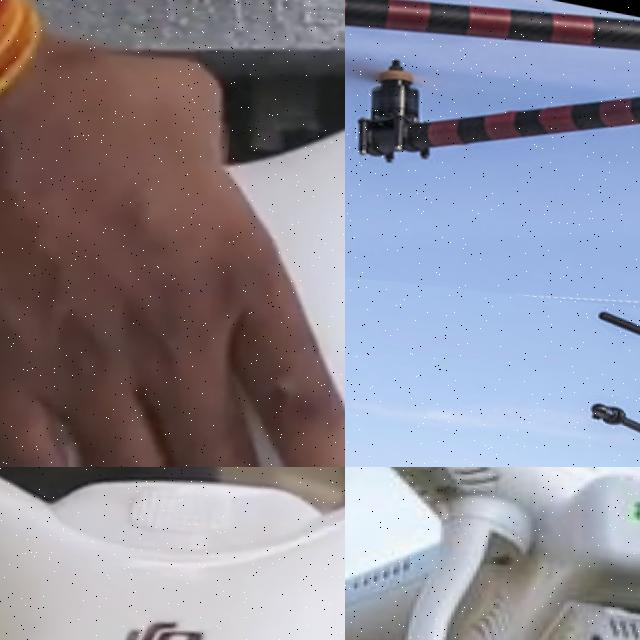drone: (0, 0, 345, 467), (345, 0, 640, 312), (0, 467, 345, 640), (345, 467, 640, 640)
